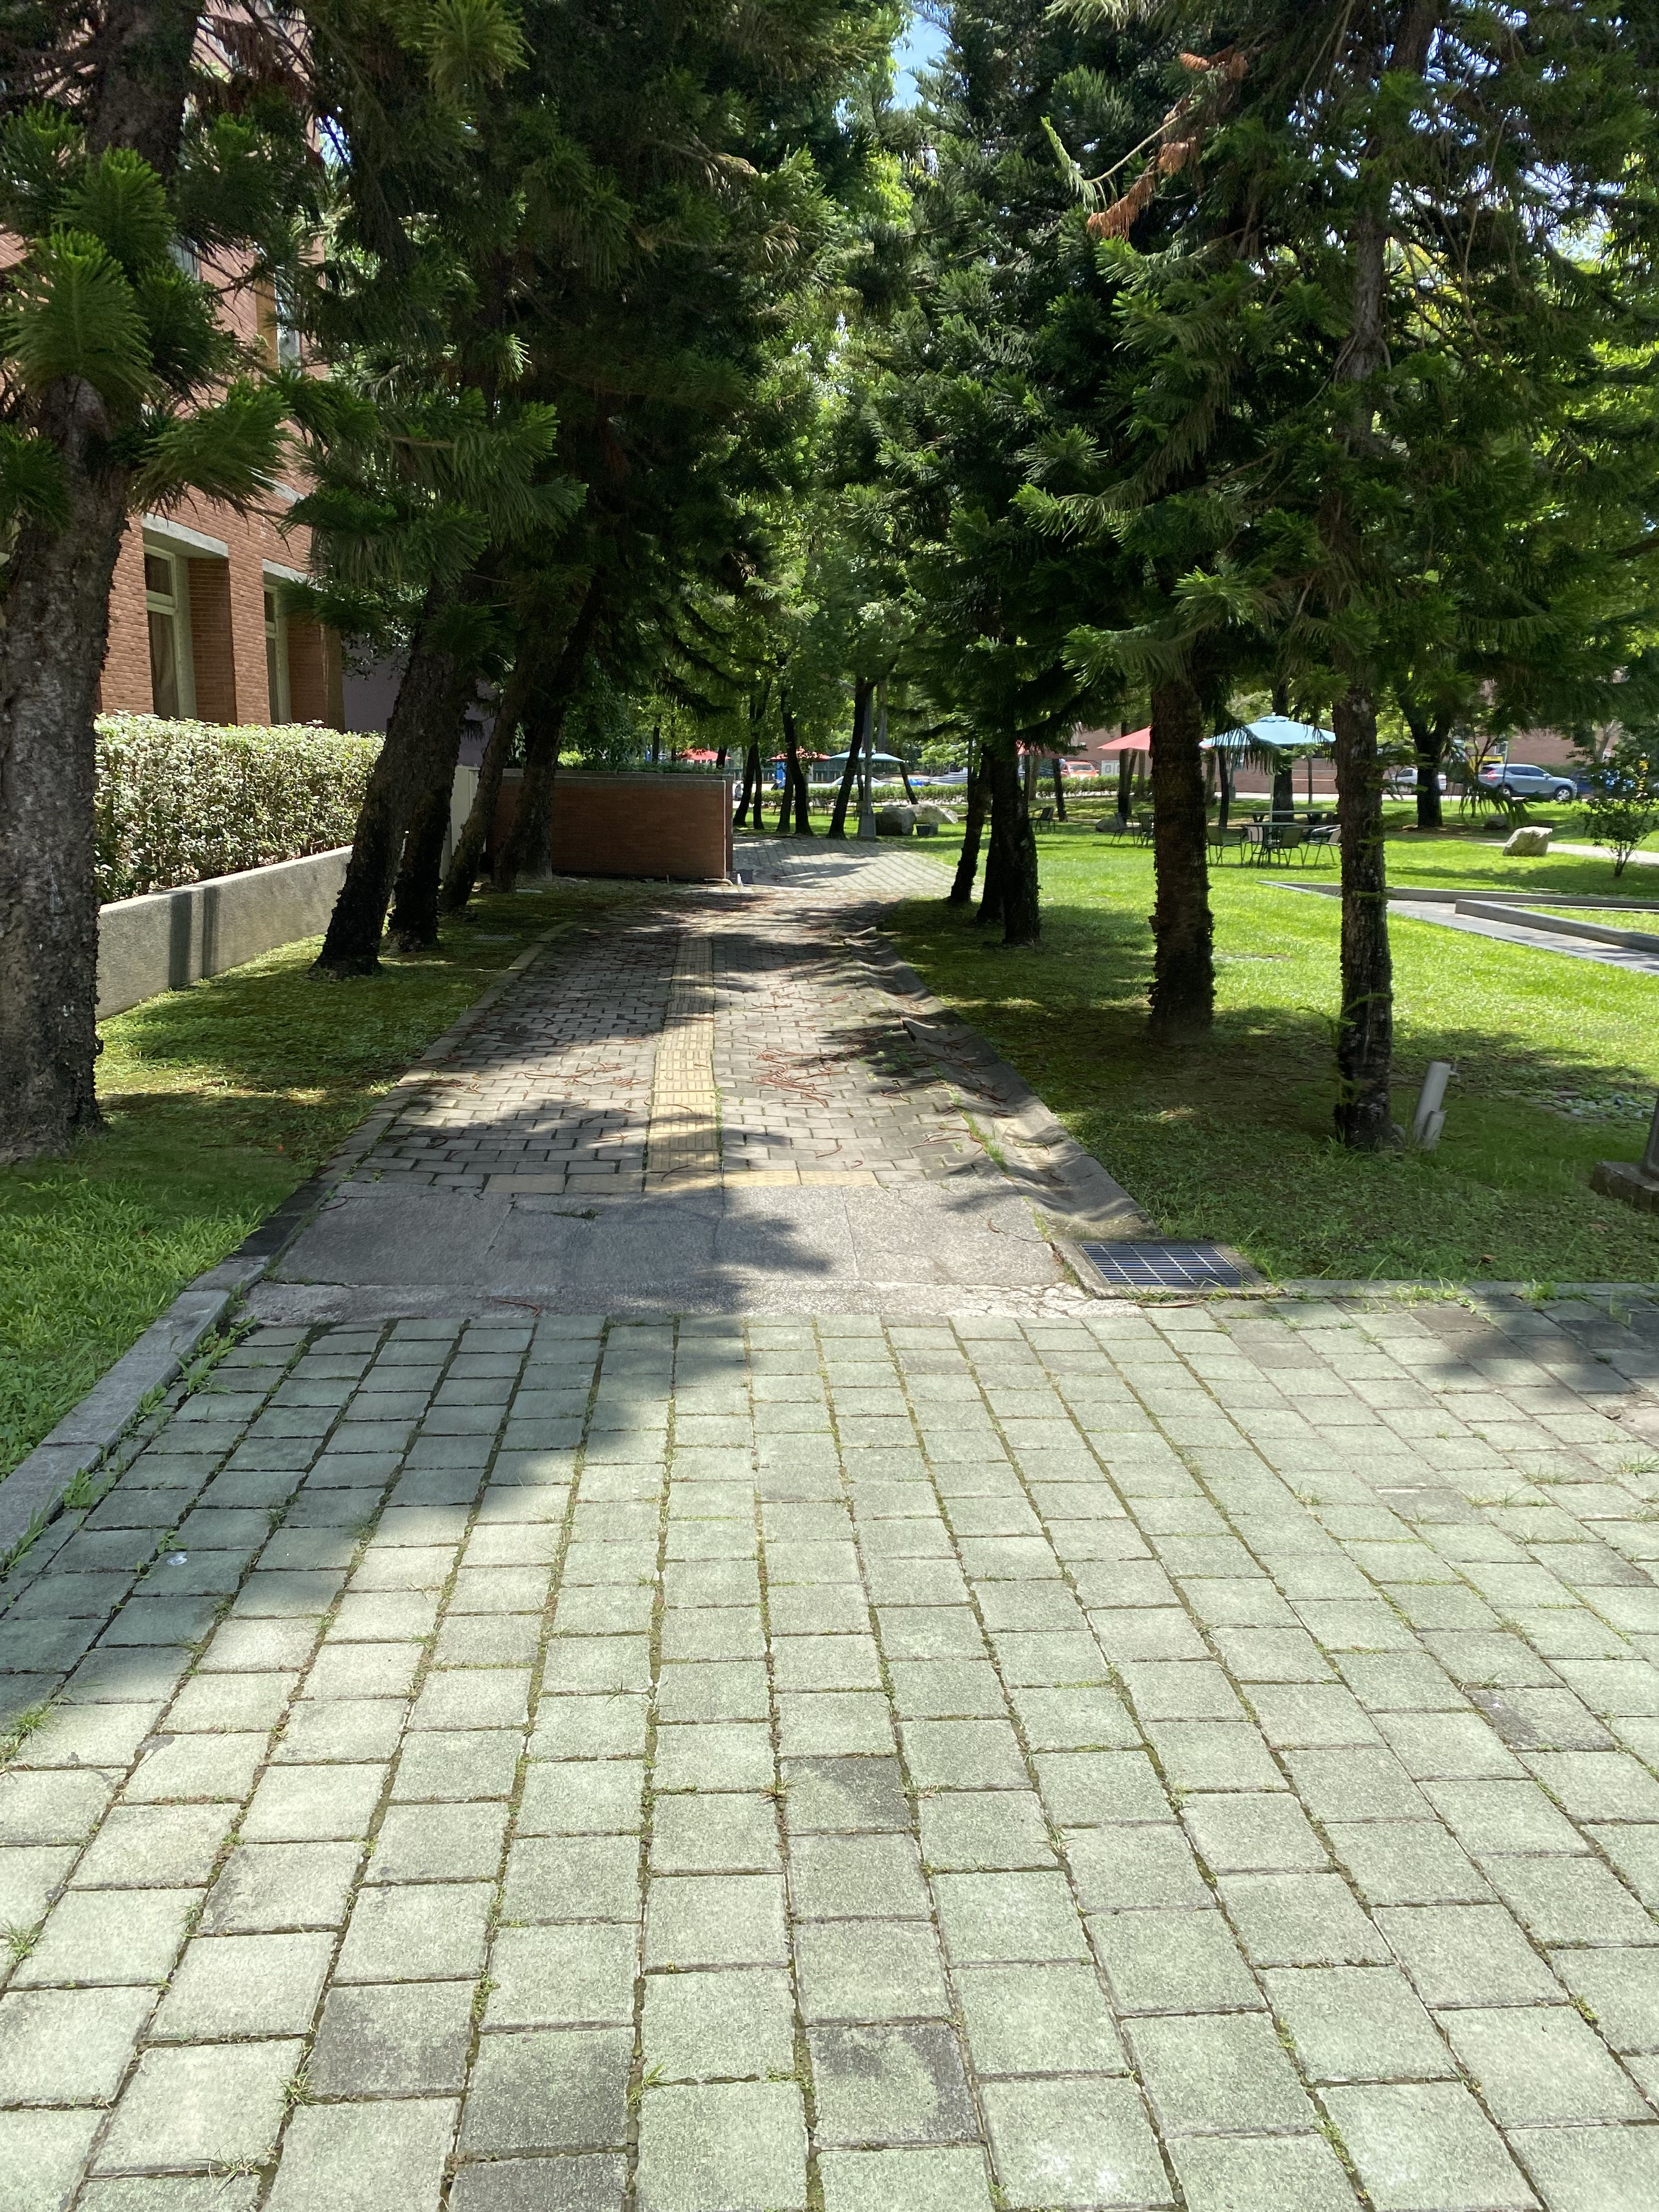0: (14, 1169, 1659, 2212)
sidewalk: (389, 759, 1209, 1460)
